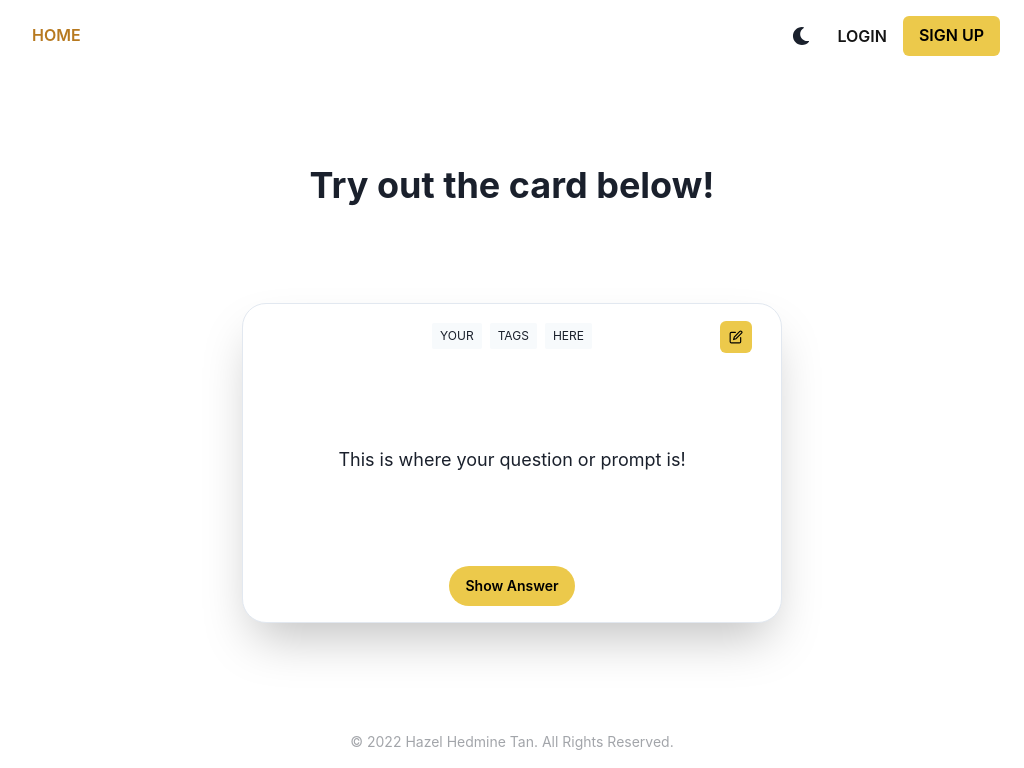
Test case: Note app › user can sign up with all fields filled
This screenshot has width=1024, height=768.
Click the button "SIGN UP" at coordinates (952, 36), box [903,16,1000,56]
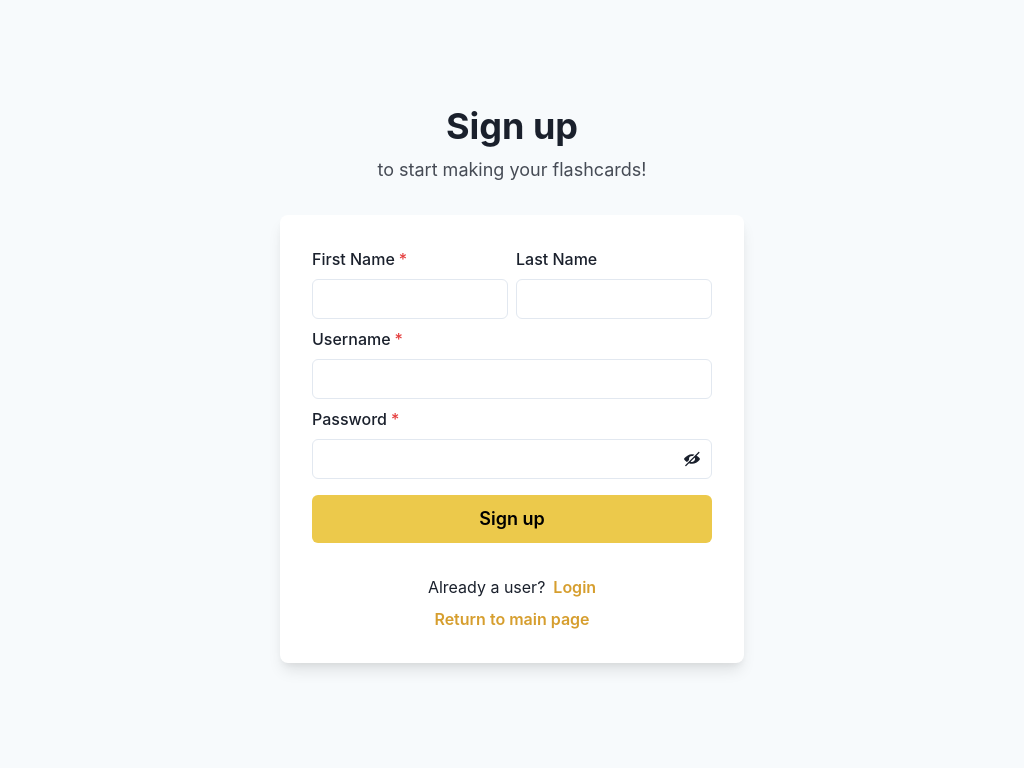
Type "test" into the field with id "firstNameInput" at coordinates (410, 299), box [312,279,508,319]
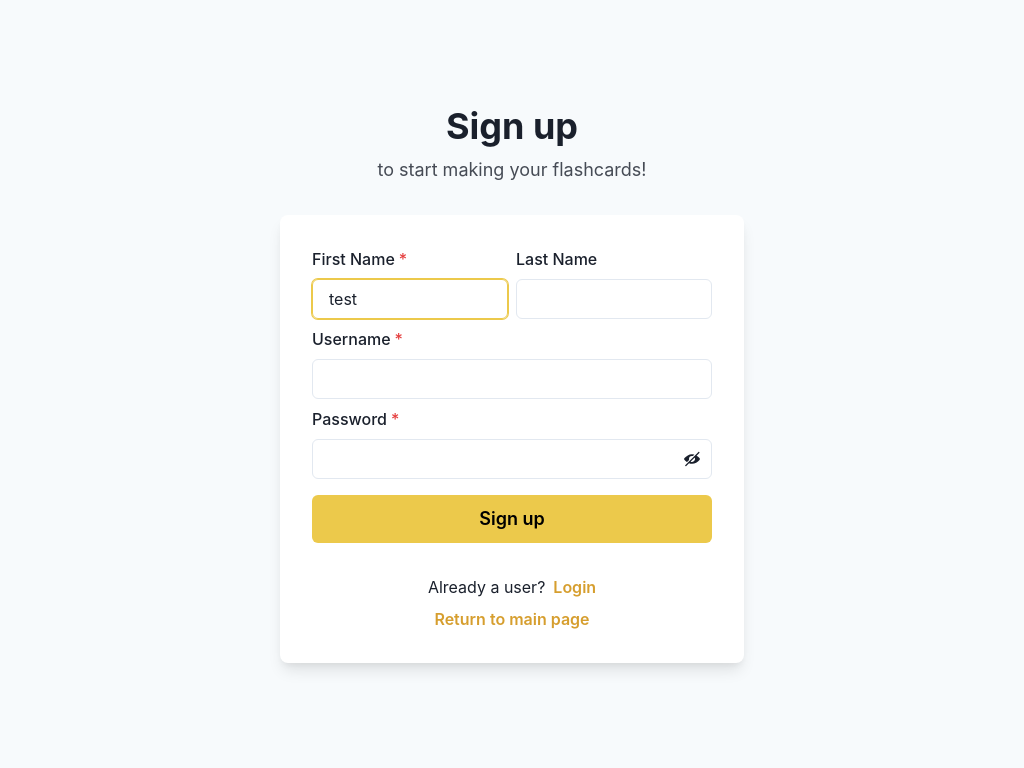
Type "cypress" into the field with id "lastNameInput" at coordinates (614, 299), box [516,279,712,319]
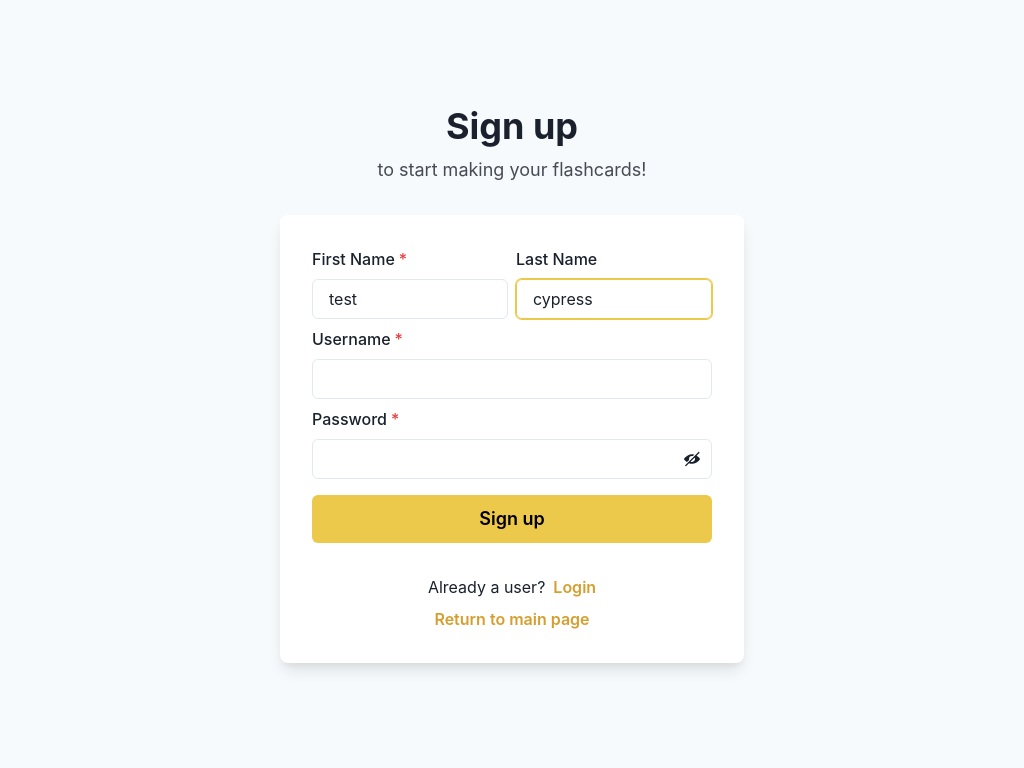
Type "testcypress" into the field with id "usernameInput" at coordinates (512, 379), box [312,359,712,399]
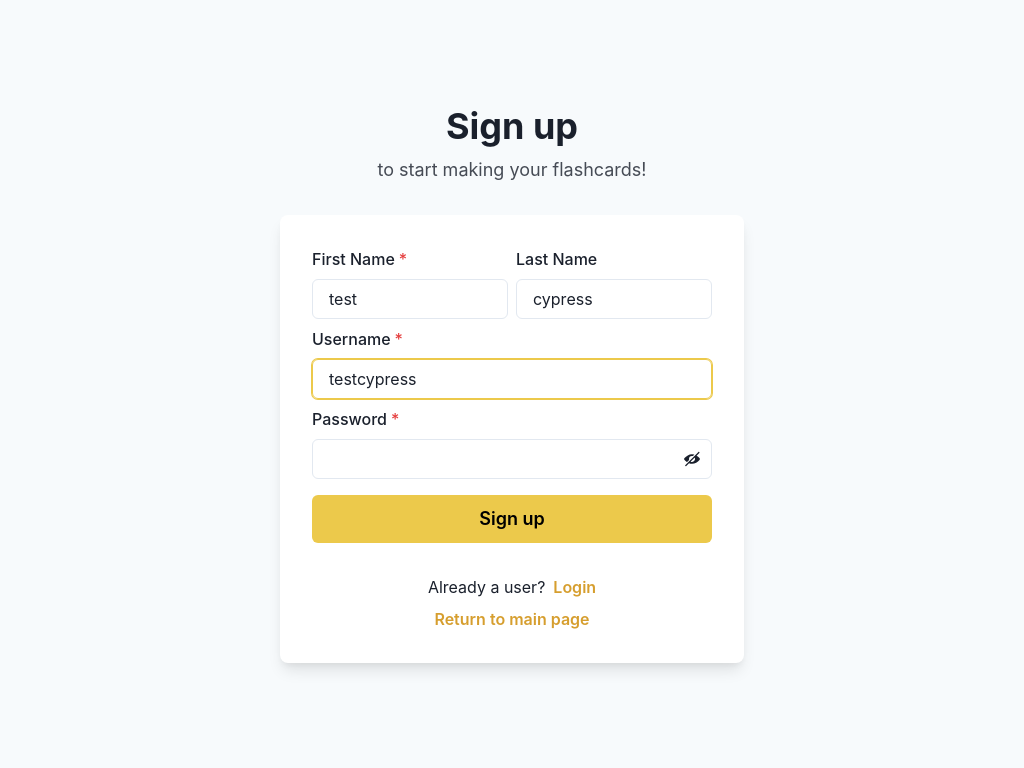
Type "cypress123" into the password field at coordinates (512, 459), box [312,439,712,479]
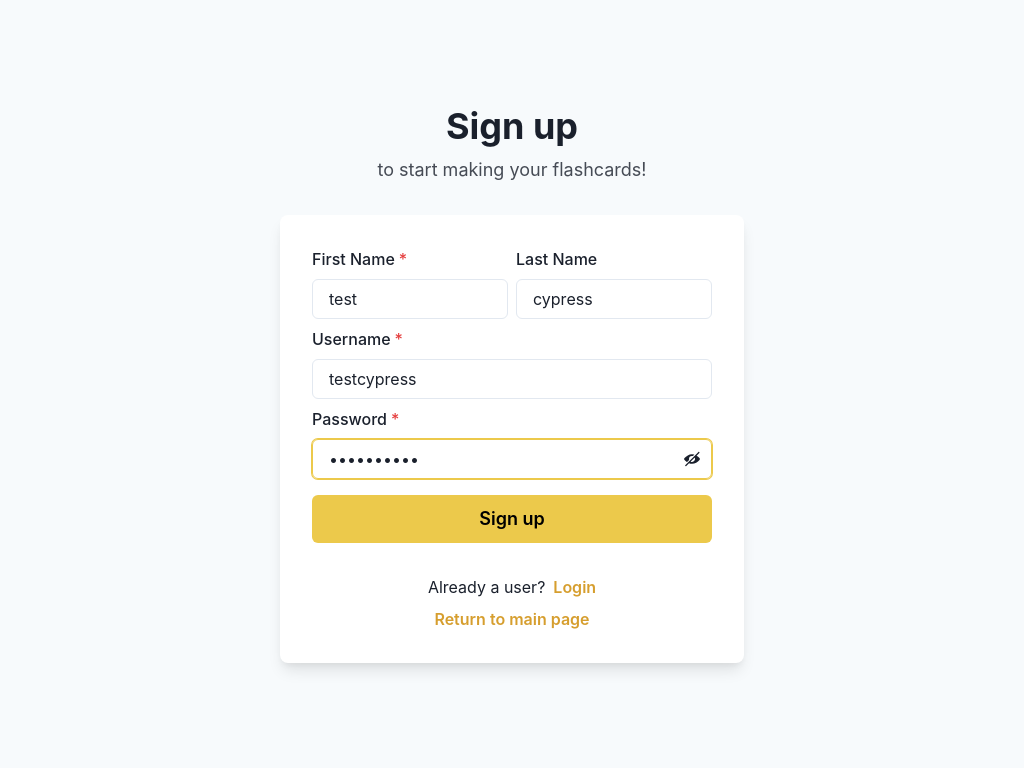
Click the button with id "signUpButton" at coordinates (512, 519), box [312,495,712,543]
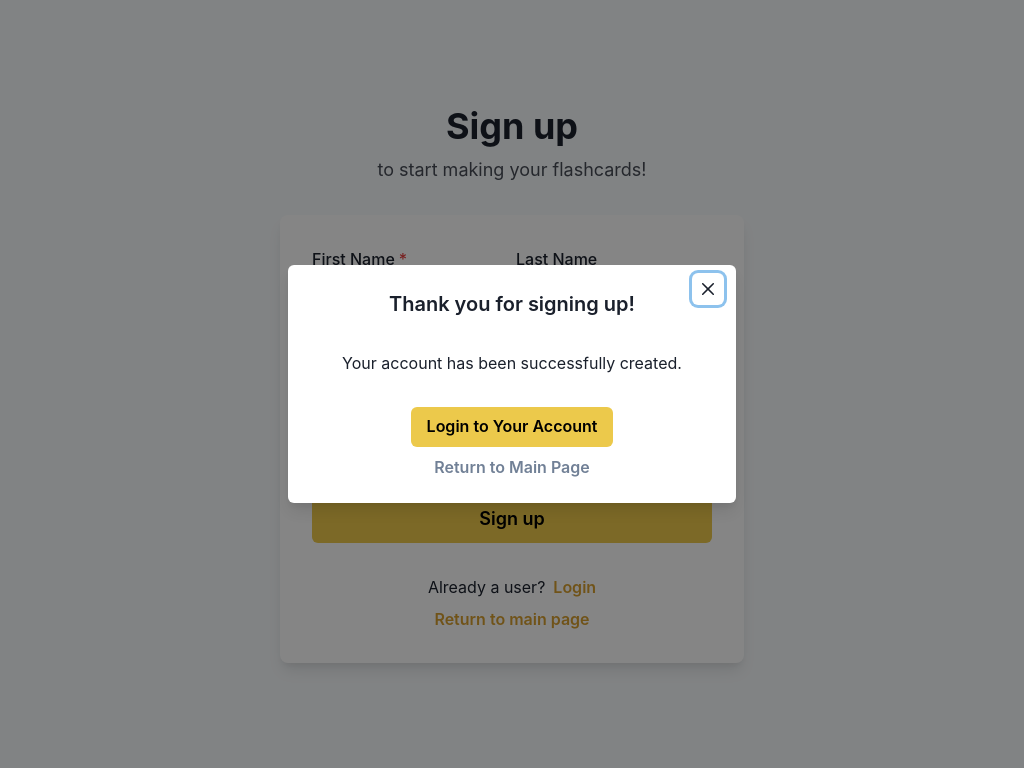
Now the text "Thank you for signing up!" is shown, box [389,292,635,316]
Now the text "Your account has been successfully created." is shown, box [342,353,682,373]
